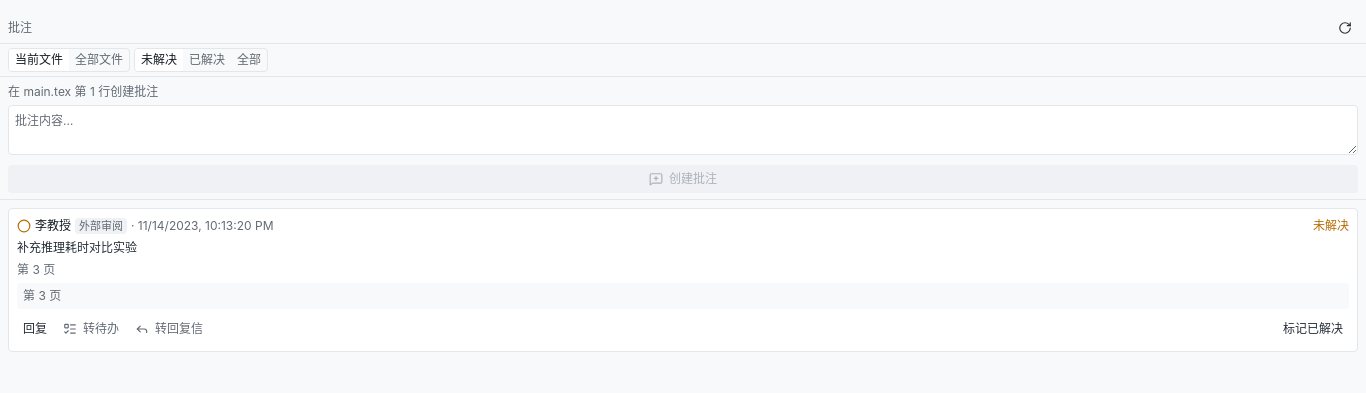
Test: Wave 2 前端差异化新功能回归 › CommentsSidebar (Wave 2C)：批注一键转待办 Issue 与纳入回复信
What coordinates should you click on to do the following:
click the button with test id "latex-comment-to-issue-c1"
I would click on:
 (91, 329)
Its box is [57,315,125,343].
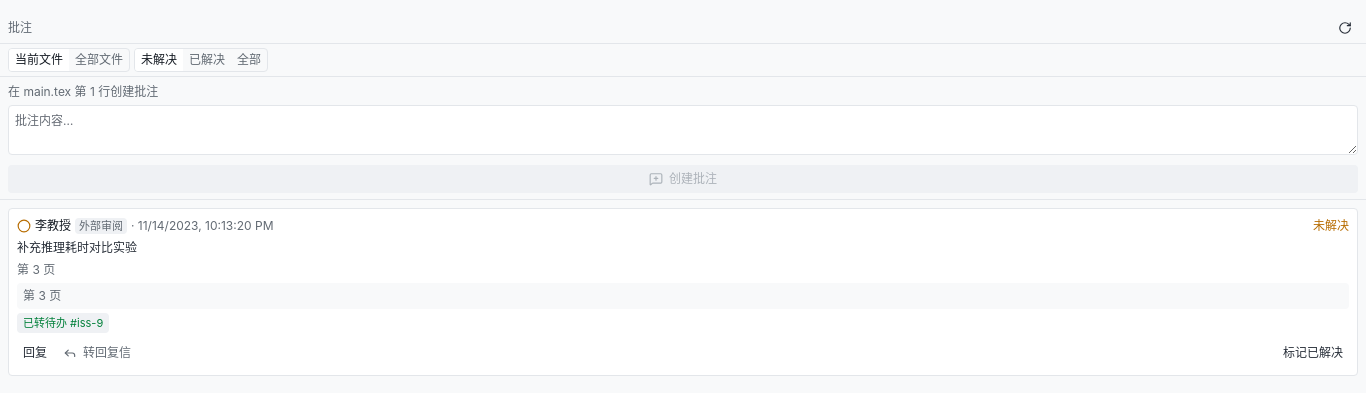
Check: the text with test id "latex-comment-linked-issue-c1" shows "#iss-9", box [17,313,109,333]
What coordinates should you click on to do the following:
click the button with test id "latex-comment-to-rebuttal-c1"
I would click on:
 (97, 353)
Its box is [57,339,137,367].
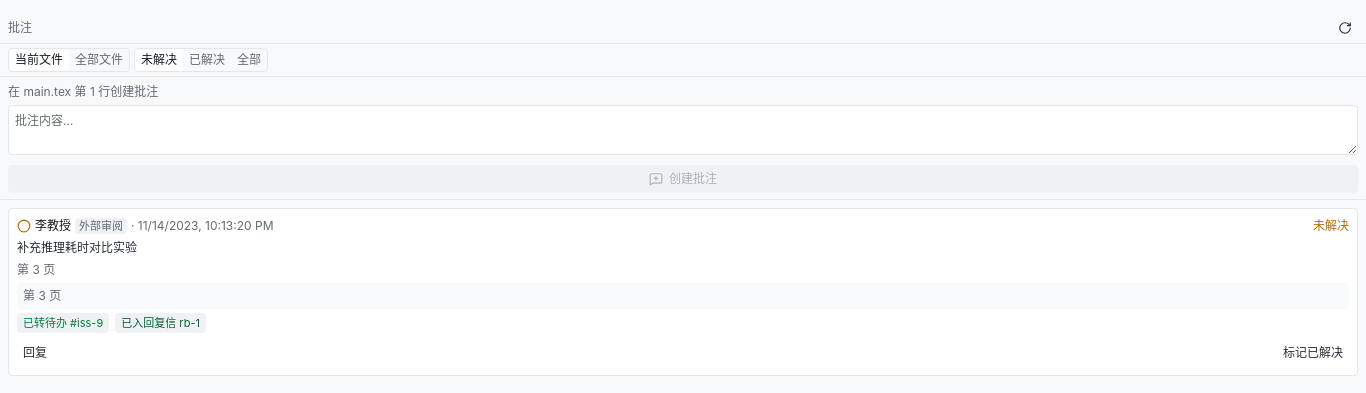
Check: the text with test id "latex-comment-linked-rebuttal-c1" shows "rb-1", box [179,316,200,330]
